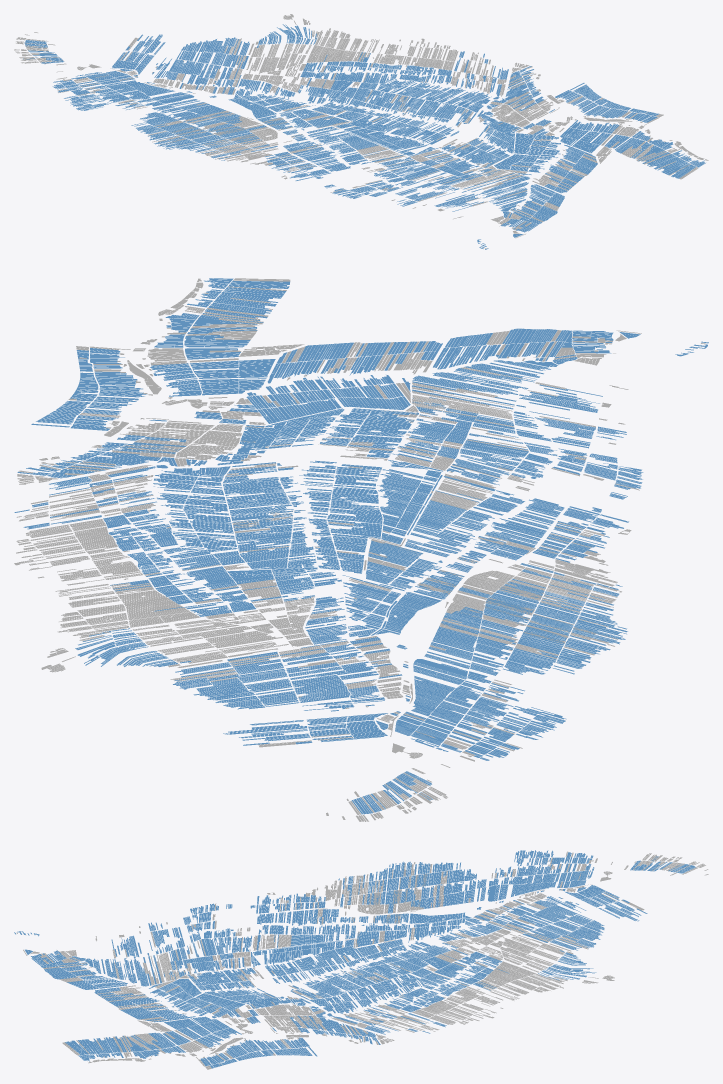
File: parcel_datum_caps_opaque.glb
The picture shows the model from 3 angles, top to bottom: view 1: azimuth 30°, elevation 25°; view 2: azimuth 150°, elevation 25°; view 3: azimuth 270°, elevation 25°; orthographic projection. The views are drawn at different scales.
Visible parts, largest first — view 1: proto2_animated_parcel_mesh; view 2: proto2_animated_parcel_mesh; view 3: proto2_animated_parcel_mesh.
Boxes of the visible parts, left/top/right/bottom form: proto2_animated_parcel_mesh: left=14, top=14, right=708, bottom=249; proto2_animated_parcel_mesh: left=14, top=278, right=708, bottom=821; proto2_animated_parcel_mesh: left=14, top=850, right=708, bottom=1069.
Bounding box in the file's own units: 14409 × 0 × 19254.
